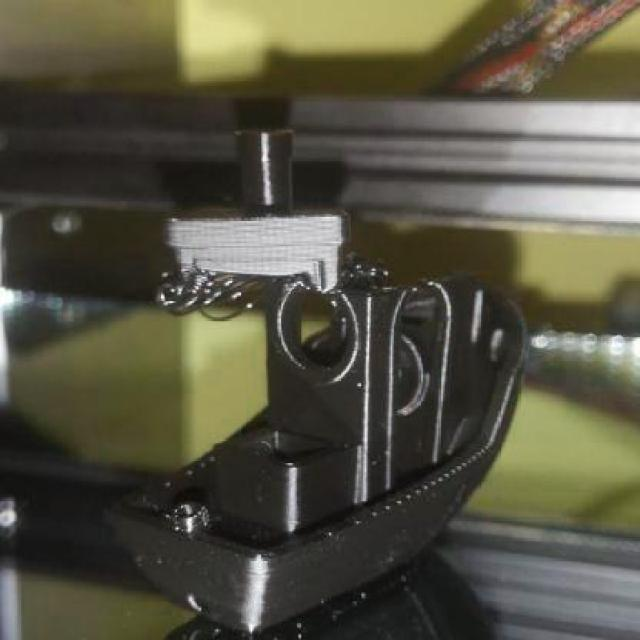Spaghetti: (155, 264, 273, 321), (338, 248, 392, 294)
